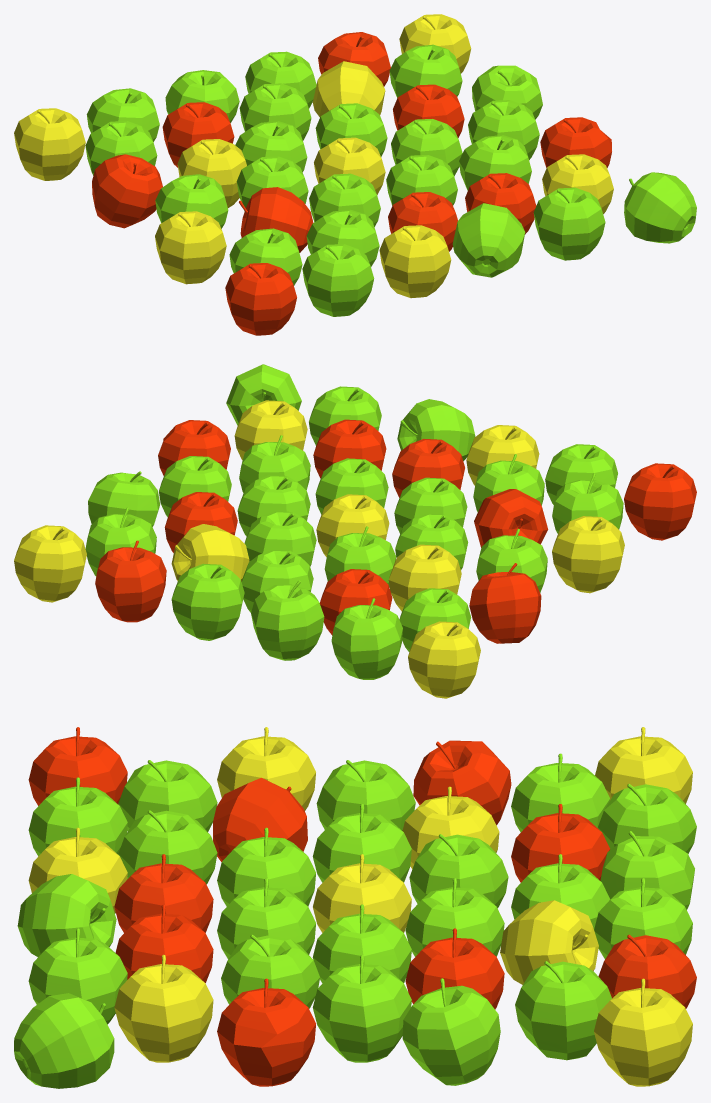
Rendered from FBX_Apple.fbx.
3 views of the same model, one above another, from view 1: azimuth 30°, elevation 25°; view 2: azimuth 150°, elevation 25°; view 3: azimuth 270°, elevation 25° (orthographic). The views are drawn at different scales.
Visible parts, largest first — view 1: M_Apple; view 2: M_Apple; view 3: M_Apple.
Part boxes in pixels (<box>): M_Apple: <box>14,14,696,335</box>; M_Apple: <box>14,364,696,698</box>; M_Apple: <box>14,727,696,1088</box>.
Bounding box in the file's own units: 0.7972 × 0.1238 × 0.7749.
